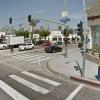Crosswalk: (6, 60, 57, 99)
